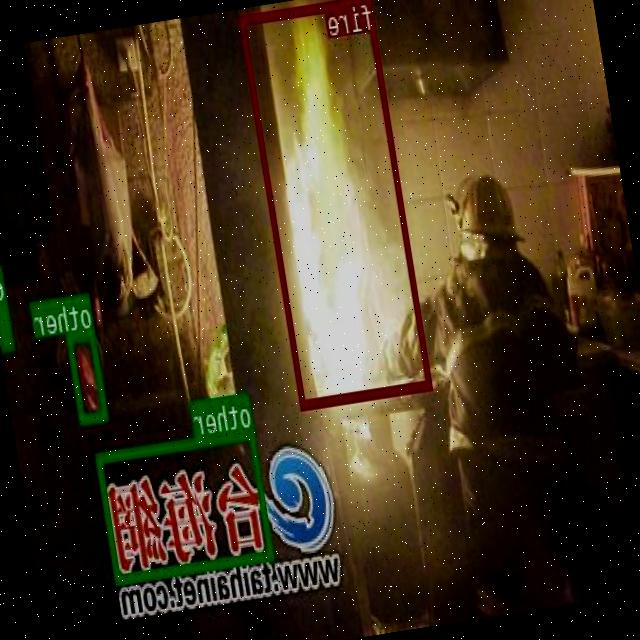fire: (240, 0, 433, 407)
